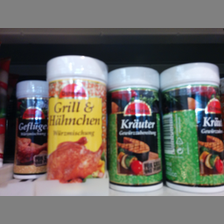spices: (45, 55, 109, 196), (160, 62, 224, 194), (107, 66, 165, 192), (12, 80, 47, 178)
